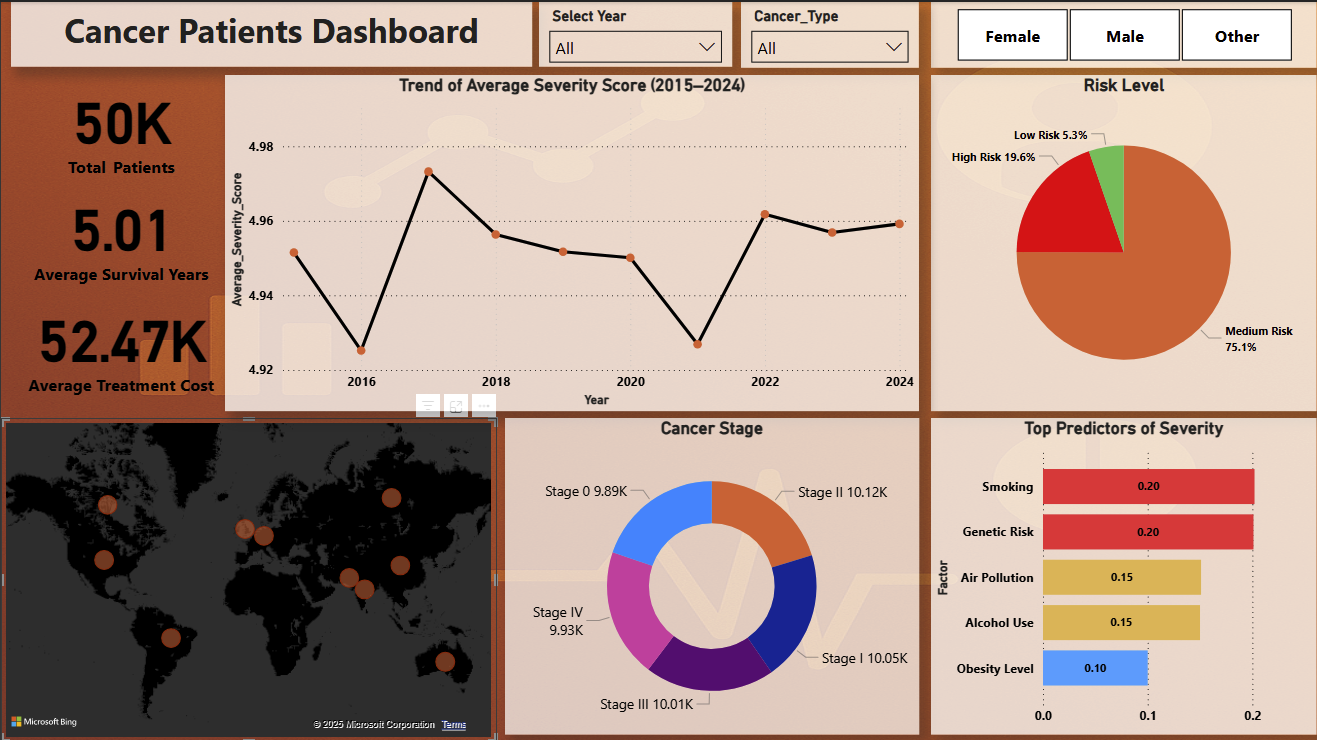

The dashboard page shown, as its layout file describes it:
{"tool":"powerbi","page":{"name":"Page 1","canvas":[1280,720],"ordinal":0},"visuals":[{"type":"textbox","box":[9.7,0,506.7,63.2],"z":0},{"type":"slicer","fields":{"Values":["global_cancer_patients_2015_2024_cleaned.Year"]},"box":[523.3,0,187.7,63.2],"z":1000},{"type":"card","fields":{"Values":["global_cancer_patients.Total_Patients"]},"box":[16.5,71,201.3,101.2],"z":2000},{"type":"map","fields":{"Category":["global_cancer_patients.Country_Region"],"Size":["global_cancer_patients.Total_Patients"]},"box":[0,404.6,482.4,315.1],"z":3000},{"type":"slicer","fields":{"Values":["global_cancer_patients.Gender"]},"box":[904.6,0,375.4,64.2],"z":4000},{"type":"slicer","fields":{"Values":["global_cancer_patients.Cancer_Type"]},"box":[719.8,0,173.1,64.2],"z":5000},{"type":"pieChart","title":"Risk Level","fields":{"Y":["CountNonNull(global_cancer_patients.Risk Level)"],"Category":["global_cancer_patients.Risk Level"]},"box":[904.6,71,375.4,326.8],"z":6000},{"type":"card","fields":{"Values":["global_cancer_patients.Average_Survival"]},"box":[16.5,172.2,201.3,108],"z":7000},{"type":"card","fields":{"Values":["global_cancer_patients.Average_Treatment_Cost"]},"box":[16.5,280.1,201.3,108],"z":8000},{"type":"lineChart","title":"Trend of Average Severity Score (2015–2024) ","fields":{"Category":["global_cancer_patients.Year"],"Y":["Avg(global_cancer_patients.Target_Severity_Score)"]},"box":[217.9,71,675,326.8],"z":9000},{"type":"donutChart","title":"Cancer Stage","fields":{"Category":["global_cancer_patients.Cancer_Stage"],"Y":["CountNonNull(global_cancer_patients.Cancer_Stage)"]},"box":[490.2,404.6,402.7,315.1],"z":10000},{"type":"clusteredBarChart","title":"Top Predictors of Severity","fields":{"Category":["Factors.Factor"],"Y":["Sum(Factors.Importance)"]},"box":[905,405,375,315],"z":11000}]}

Visuals, with their boxes in screenshot pixels (x1, y1, x2, y2), scaled from the page's 1280x720 canvas onto the 1317x740 screenshot:
textbox: <box>10,0,531,65</box>
slicer - global_cancer_patients_2015_2024_cleaned.Year: <box>538,0,732,65</box>
card - global_cancer_patients.Total_Patients: <box>17,73,224,177</box>
map - global_cancer_patients.Country_Region x global_cancer_patients.Total_Patients: <box>0,416,496,739</box>
slicer - global_cancer_patients.Gender: <box>931,0,1316,66</box>
slicer - global_cancer_patients.Cancer_Type: <box>741,0,919,66</box>
"Risk Level" pieChart: <box>931,73,1316,409</box>
card - global_cancer_patients.Average_Survival: <box>17,177,224,288</box>
card - global_cancer_patients.Average_Treatment_Cost: <box>17,288,224,399</box>
"Trend of Average Severity Score (2015–2024) " lineChart: <box>224,73,919,409</box>
"Cancer Stage" donutChart: <box>504,416,919,739</box>
"Top Predictors of Severity" clusteredBarChart: <box>931,416,1316,739</box>
